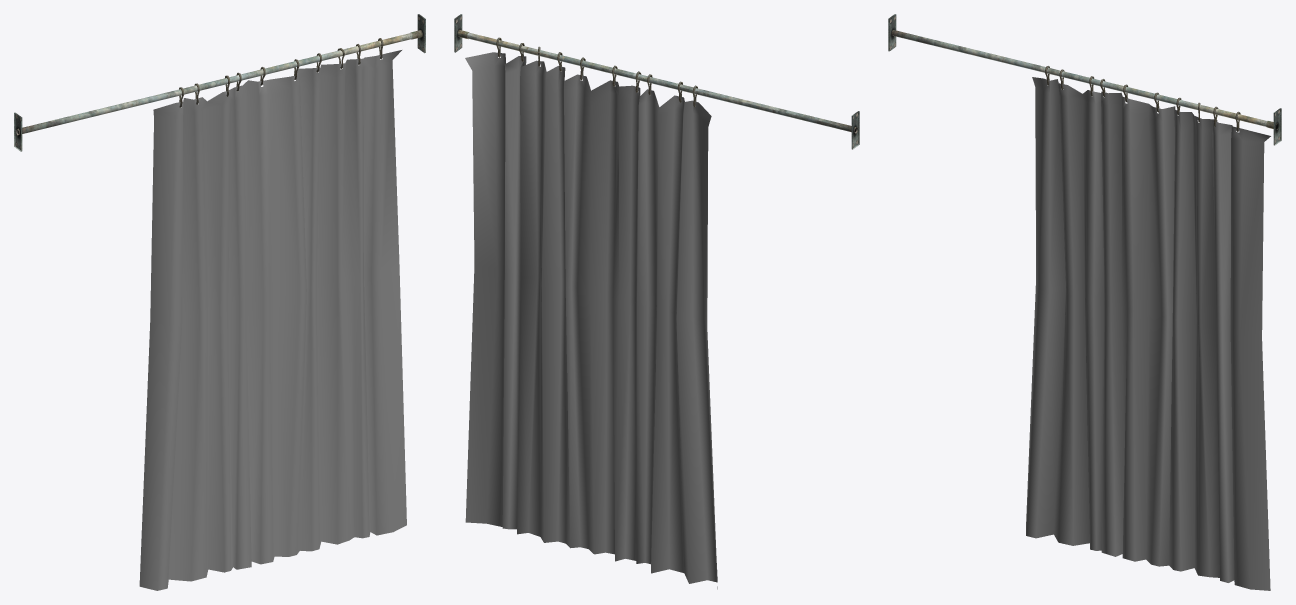
Rendered from curtainBathroom.FBX.
The picture shows the model from 3 angles, left to right: view 1: azimuth 30°, elevation 25°; view 2: azimuth 150°, elevation 25°; view 3: azimuth 330°, elevation 25°; orthographic projection. The views are drawn at different scales.
Visible parts, largest first — view 1: SM_CurtainBathroom; view 2: SM_CurtainBathroom; view 3: SM_CurtainBathroom.
Boxes of the visible parts, x1=… form: SM_CurtainBathroom: x1=14, y1=14, x2=425, y2=590; SM_CurtainBathroom: x1=454, y1=14, x2=859, y2=589; SM_CurtainBathroom: x1=888, y1=14, x2=1281, y2=590.
Size of the model in its own units: 175 by 211 by 9.52.
2 materials, 1 textured.
